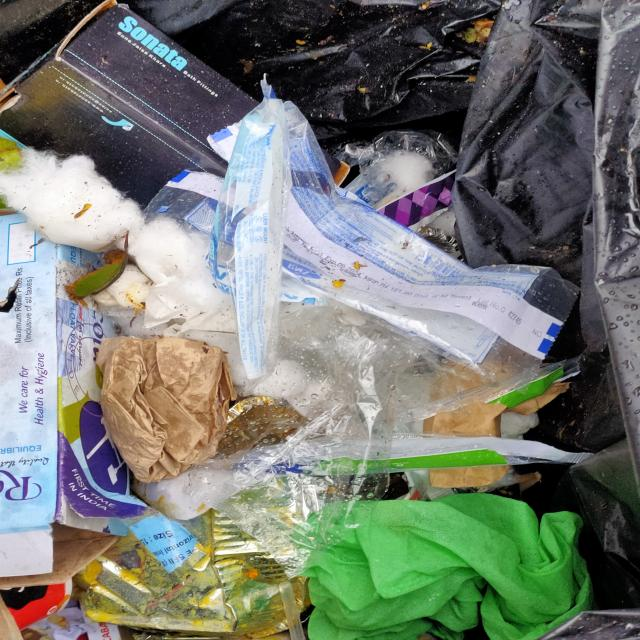B3: (213, 72, 602, 395), (1, 2, 235, 154), (2, 214, 98, 528), (93, 337, 230, 481), (265, 435, 586, 485), (5, 151, 139, 248), (371, 153, 434, 190)
